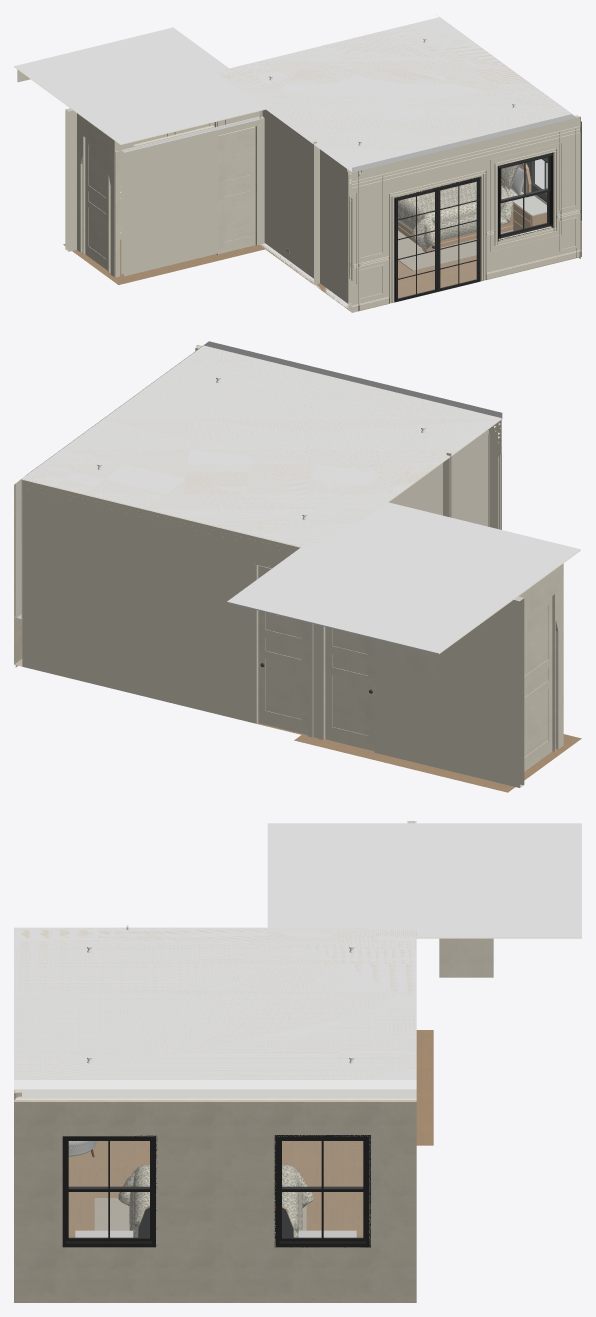
File: primary-bedroom-fd8456c42ad5.glb
3 views of the same model, one above another, from view 1: azimuth 30°, elevation 25°; view 2: azimuth 150°, elevation 25°; view 3: azimuth 270°, elevation 25° (orthographic). The views are drawn at different scales.
Parts seen in each view (by area): view 1: primary-bedroom-9d91b47435c6fb33, primary-bedroom-look-9d91b47435c6fb33, primary-bedroom-b0ade14315e4f1c3, primary-bedroom-look-9ecc0d558be1c706, primary-bedroom-e8793759323e04f0, primary-bedroom-0987656e6ddb83c1, primary-bedroom-fc6585fecfaf7ec3, primary-bedroom-look-18f70a4a9eda5dac, primary-bedroom-c791a0f218fead78, primary-bedroom-e1735639a83d20d7, primary-bedroom-b29583548b72a1ea, primary-bedroom-look-6c54e09c161b5848 (+18 smaller); view 2: primary-bedroom-9d91b47435c6fb33, primary-bedroom-21ac2ed1b4475155, primary-bedroom-look-9d91b47435c6fb33, primary-bedroom-e8793759323e04f0, primary-bedroom-look-21ac2ed1b4475155, primary-bedroom-b7a870a0f6b43c8c, primary-bedroom-look-6d601da8073fdc0e, primary-bedroom-look-6c54e09c161b5848, primary-bedroom-c791a0f218fead78, primary-bedroom-look-e48b5483df8cacdb, primary-bedroom-look-2575515a05775d9e, primary-bedroom-fc6585fecfaf7ec3 (+5 smaller); view 3: primary-bedroom-9d91b47435c6fb33, primary-bedroom-adb6f49a6d2cbec3, primary-bedroom-look-9d91b47435c6fb33, primary-bedroom-e8793759323e04f0, primary-bedroom-16d9002bc6318568, primary-bedroom-2575515a05775d9e, primary-bedroom-91f952a1d198b4a4, primary-bedroom-f5a37a5545b9d676, primary-bedroom-791abe15be22adf2, primary-bedroom-b29583548b72a1ea, primary-bedroom-look-95b94d4b81cfb474, primary-bedroom-look-2575515a05775d9e (+2 smaller).
Part boxes in pixels (<box>): primary-bedroom-9d91b47435c6fb33: <box>215,17,575,172</box>; primary-bedroom-look-9d91b47435c6fb33: <box>14,27,265,144</box>; primary-bedroom-b0ade14315e4f1c3: <box>348,116,580,310</box>; primary-bedroom-look-9ecc0d558be1c706: <box>121,117,259,276</box>; primary-bedroom-e8793759323e04f0: <box>218,15,575,171</box>; primary-bedroom-0987656e6ddb83c1: <box>394,176,480,302</box>; primary-bedroom-fc6585fecfaf7ec3: <box>259,109,319,284</box>; primary-bedroom-look-18f70a4a9eda5dac: <box>218,126,255,253</box>; primary-bedroom-c791a0f218fead78: <box>314,144,358,312</box>; primary-bedroom-e1735639a83d20d7: <box>498,152,553,241</box>; primary-bedroom-b29583548b72a1ea: <box>398,181,513,250</box>; primary-bedroom-look-6c54e09c161b5848: <box>82,135,110,272</box>; primary-bedroom-9d91b47435c6fb33: <box>21,345,502,551</box>; primary-bedroom-21ac2ed1b4475155: <box>22,480,320,739</box>; primary-bedroom-look-9d91b47435c6fb33: <box>227,502,580,654</box>; primary-bedroom-e8793759323e04f0: <box>22,341,502,544</box>; primary-bedroom-look-21ac2ed1b4475155: <box>320,596,524,787</box>; primary-bedroom-b7a870a0f6b43c8c: <box>258,565,307,734</box>; primary-bedroom-look-6d601da8073fdc0e: <box>325,627,374,750</box>; primary-bedroom-look-6c54e09c161b5848: <box>524,592,555,771</box>; primary-bedroom-c791a0f218fead78: <box>443,426,491,526</box>; primary-bedroom-look-e48b5483df8cacdb: <box>518,563,563,749</box>; primary-bedroom-look-2575515a05775d9e: <box>294,734,581,792</box>; primary-bedroom-fc6585fecfaf7ec3: <box>389,459,446,515</box>; primary-bedroom-9d91b47435c6fb33: <box>14,927,416,1089</box>; primary-bedroom-adb6f49a6d2cbec3: <box>14,1100,416,1247</box>; primary-bedroom-look-9d91b47435c6fb33: <box>267,823,581,938</box>; primary-bedroom-e8793759323e04f0: <box>14,927,416,1088</box>; primary-bedroom-16d9002bc6318568: <box>15,1248,416,1300</box>; primary-bedroom-2575515a05775d9e: <box>14,1141,416,1302</box>; primary-bedroom-91f952a1d198b4a4: <box>274,1135,370,1247</box>; primary-bedroom-f5a37a5545b9d676: <box>62,1135,157,1247</box>; primary-bedroom-791abe15be22adf2: <box>14,1089,416,1098</box>; primary-bedroom-b29583548b72a1ea: <box>118,1165,313,1237</box>; primary-bedroom-look-95b94d4b81cfb474: <box>439,938,493,977</box>; primary-bedroom-look-2575515a05775d9e: <box>416,1030,433,1145</box>.
Size of the model in its own units: 8.2 by 3.04 by 7.21.
Materials: 38 (7 with a texture image).
